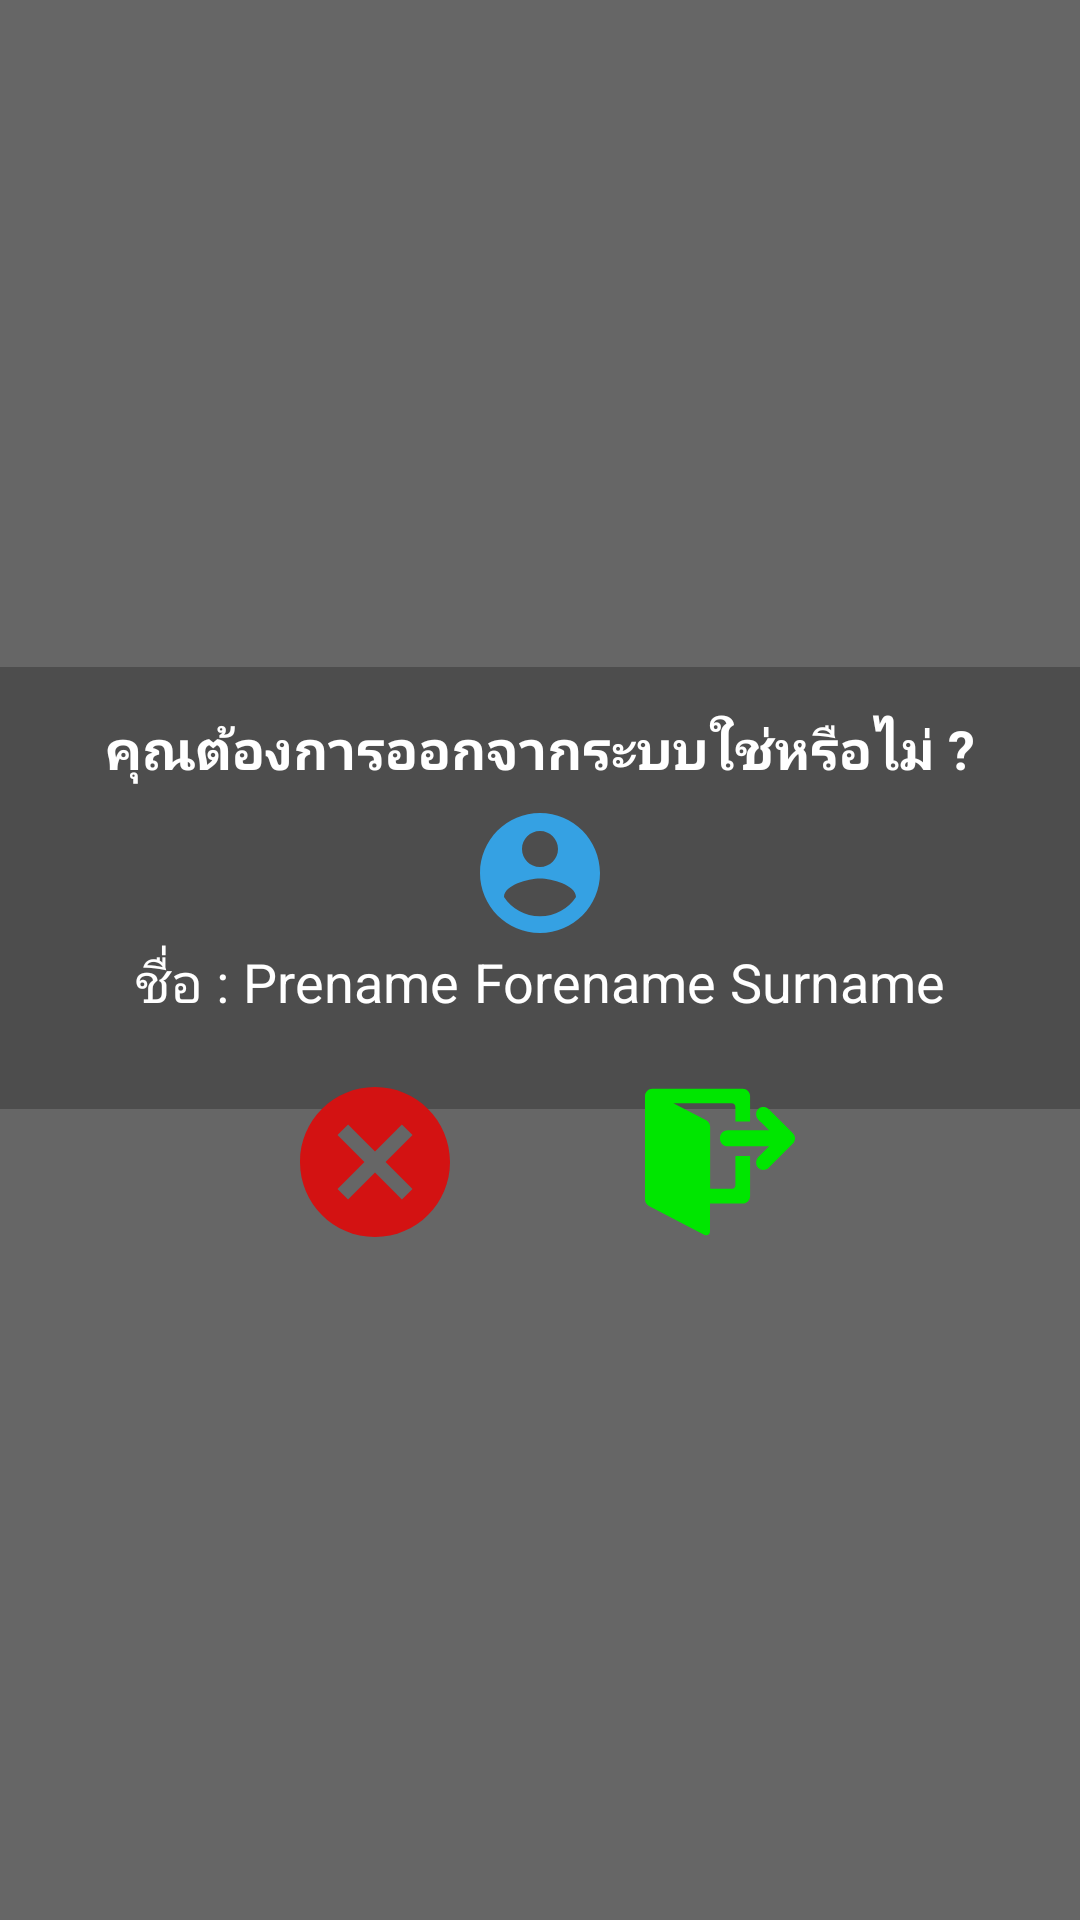

Where to tap for icons on this 1080*1920 app screen, as (x=x, y=y):
account circle: (x=540, y=873)
cancel: (x=375, y=1154)
